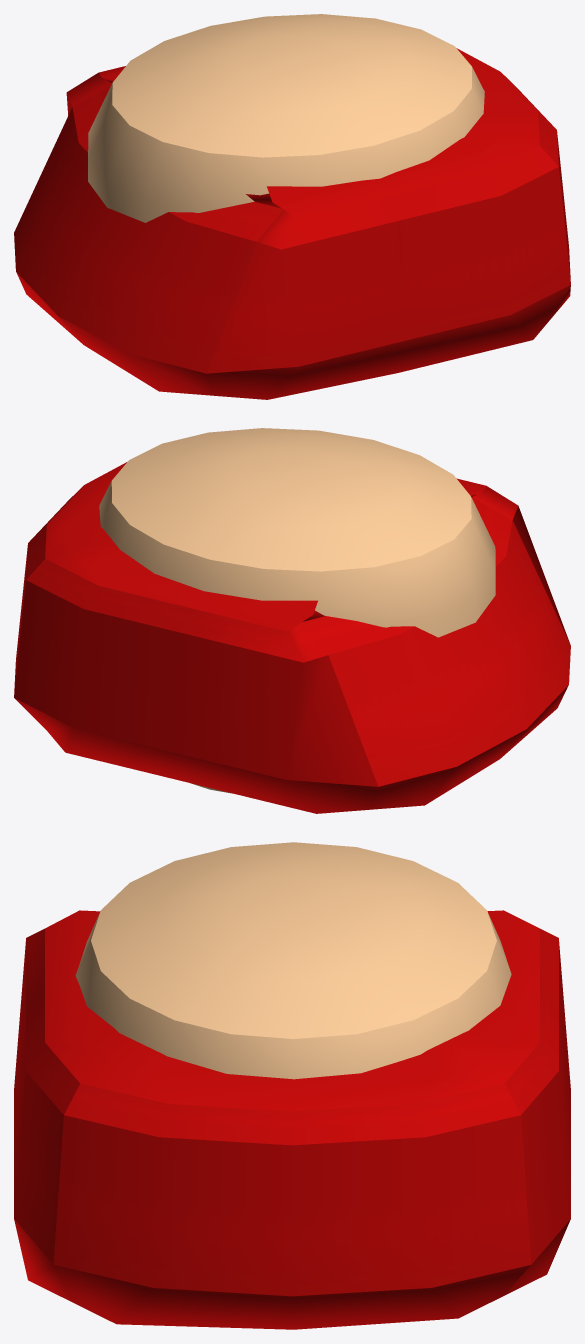
File: player_body2.obj
3 views of the same model, one above another, from view 1: azimuth 30°, elevation 25°; view 2: azimuth 150°, elevation 25°; view 3: azimuth 270°, elevation 25° (orthographic). The views are drawn at different scales.
Parts seen in each view (by area): view 1: polySurface2 pCube6, pCylinder2; view 2: polySurface2 pCube6, pCylinder2; view 3: polySurface2 pCube6, pCylinder2.
Part boxes in pixels (x1,y1,x2,y2): polySurface2 pCube6: (14, 48, 570, 399); pCylinder2: (88, 14, 484, 222); polySurface2 pCube6: (14, 462, 570, 813); pCylinder2: (99, 428, 495, 793); polySurface2 pCube6: (14, 910, 570, 1329); pCylinder2: (75, 842, 511, 1079).
Size of the model in its own units: 2.54 by 1.47 by 2.11.
1 material, 1 textured.
